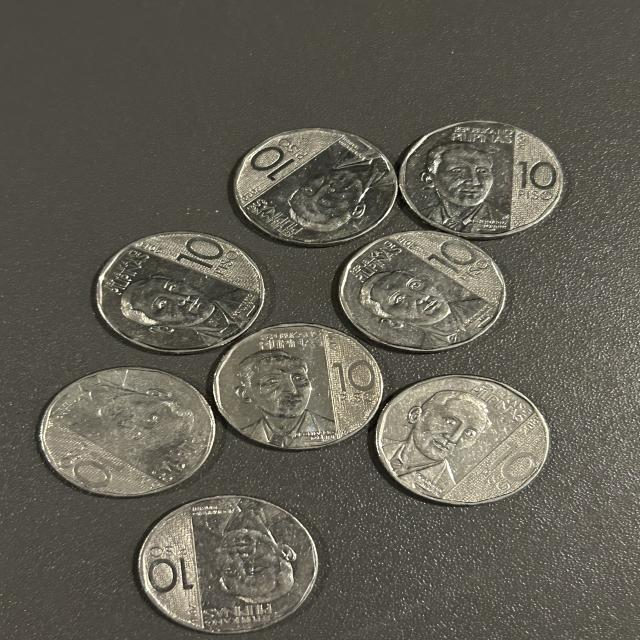10_New_Front: (144, 506, 313, 621), (389, 392, 556, 508), (340, 233, 502, 346), (239, 134, 390, 242), (229, 335, 387, 436), (404, 133, 576, 224), (116, 233, 250, 344)
